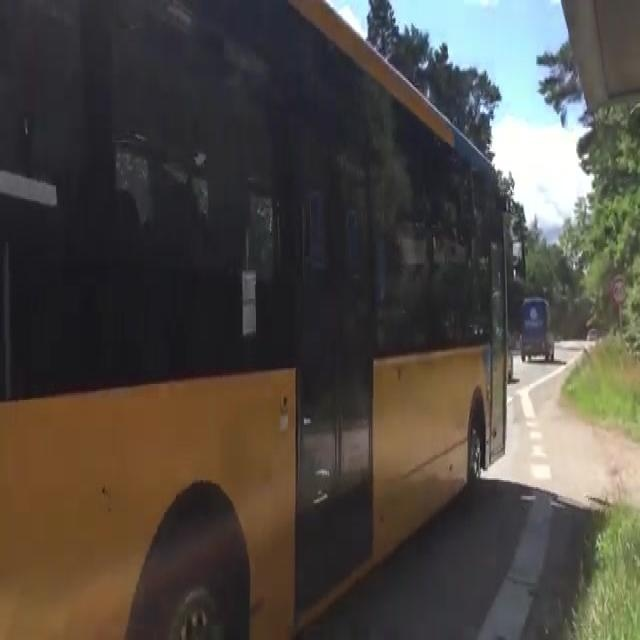Bus: (0, 2, 509, 640)
